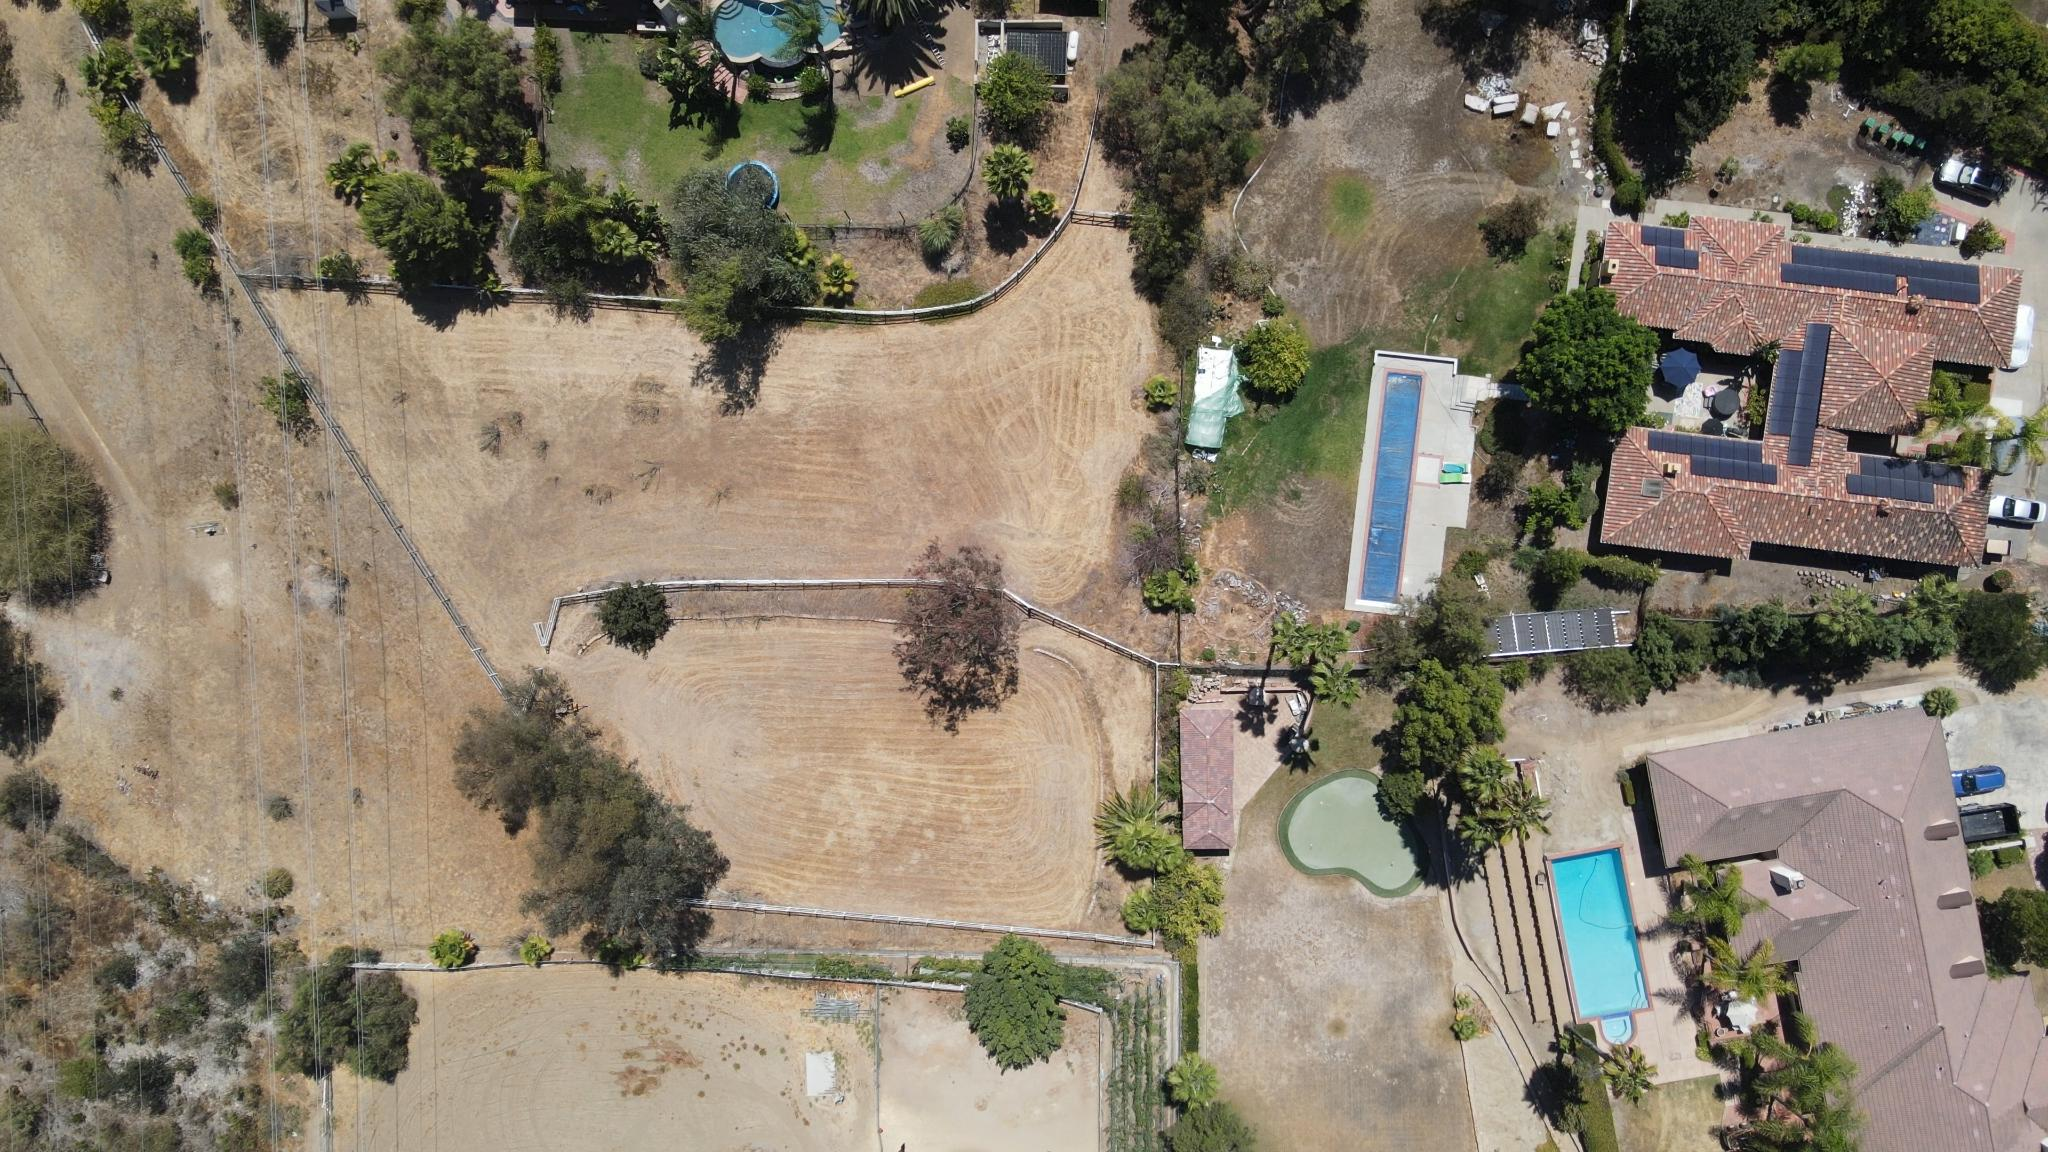solar-panels: (1780, 245, 1980, 303), (1767, 324, 1831, 466), (1648, 430, 1777, 484), (1483, 607, 1616, 655), (1846, 454, 1966, 503), (1006, 31, 1068, 76), (1642, 226, 1699, 269)
